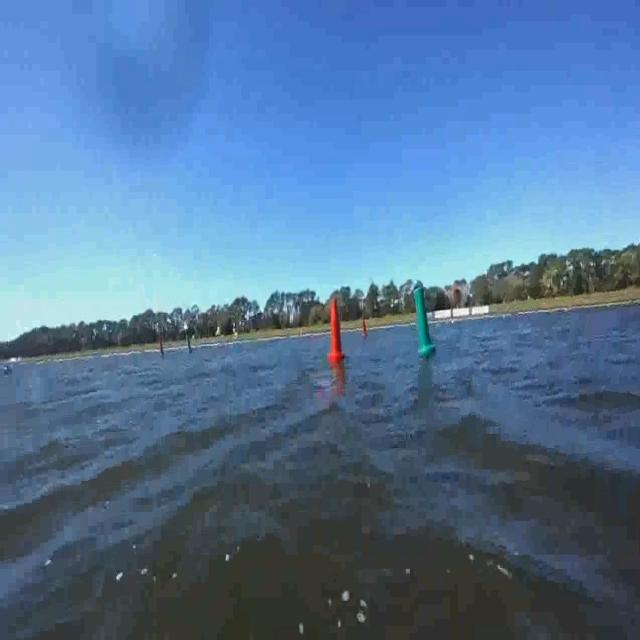green-column-buoy: (413, 286, 438, 358), (185, 332, 193, 354)
red-column-buoy: (326, 296, 344, 362), (361, 316, 368, 337)
